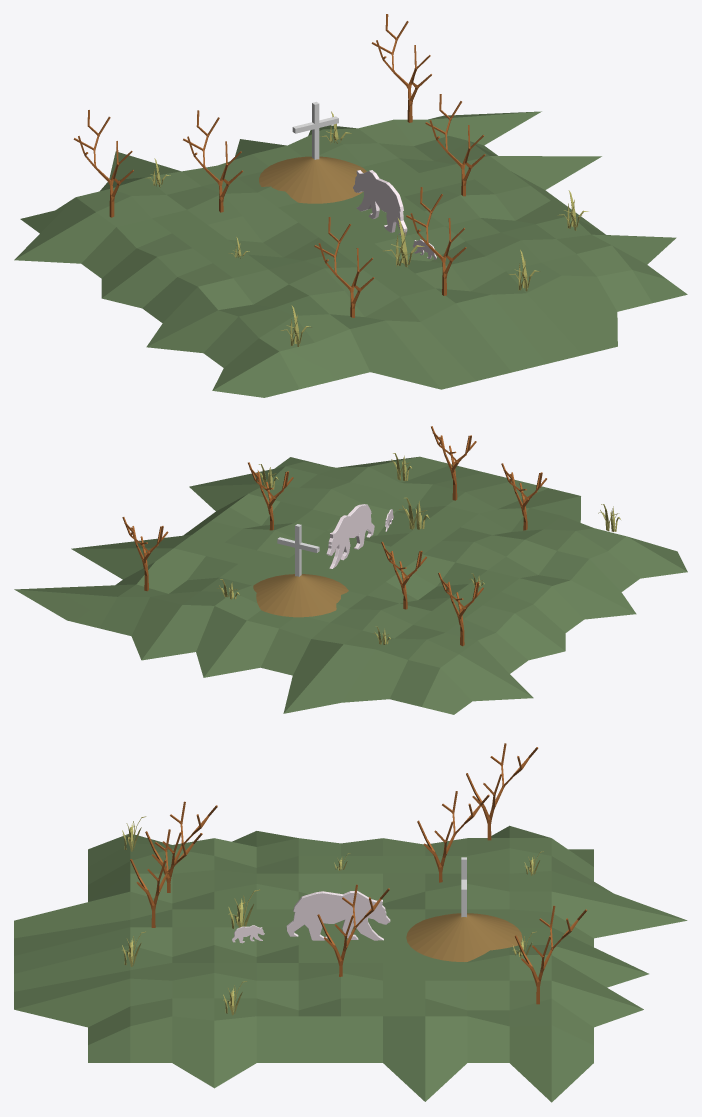
Rendered from land2.glb.
3 views of the same model, one above another, from view 1: azimuth 30°, elevation 25°; view 2: azimuth 150°, elevation 25°; view 3: azimuth 270°, elevation 25° (orthographic). The views are drawn at different scales.
Visible parts, largest first — view 1: Plane.002, Cone, Bear_2, Trunk.004, Trunk.001, Trunk.005, Trunk, Trunk.002, Trunk.003; view 2: Plane.002, Cone, Bear_2, Trunk.004, Trunk.005, Trunk.001, Trunk.002, Trunk.003, Trunk; view 3: Plane.002, Cone, Bear_2, Trunk.005, Trunk.001, Trunk.004, Trunk.003, Trunk, Trunk.002.
Boxes of the visible parts, x1,y1,x2,y2 form: Plane.002: (14,111,687,397); Cone: (259,156,366,203); Bear_2: (353,170,407,235); Trunk.004: (371,14,431,122); Trunk.001: (73,110,133,217); Trunk.005: (406,187,466,295); Trunk: (425,94,485,196); Trunk.002: (314,217,374,317); Trunk.003: (183,110,243,212); Plane.002: (14,456,687,714); Cone: (253,574,348,617); Bear_2: (326,504,374,568); Trunk.004: (122,517,168,591); Trunk.005: (431,426,476,500); Trunk.001: (438,572,483,646); Trunk.002: (501,463,546,530); Trunk.003: (381,541,426,609); Trunk: (248,462,293,530); Plane.002: (14,825,687,1102); Cone: (406,913,522,961); Bear_2: (286,891,390,940); Trunk.005: (130,829,202,927); Trunk.001: (466,743,538,840); Trunk.004: (514,905,587,1004); Trunk.003: (417,791,489,882); Trunk: (317,884,389,976); Trunk.002: (145,801,217,892).
Bounding box in the file's own units: 59.67 × 12.4 × 61.37.
